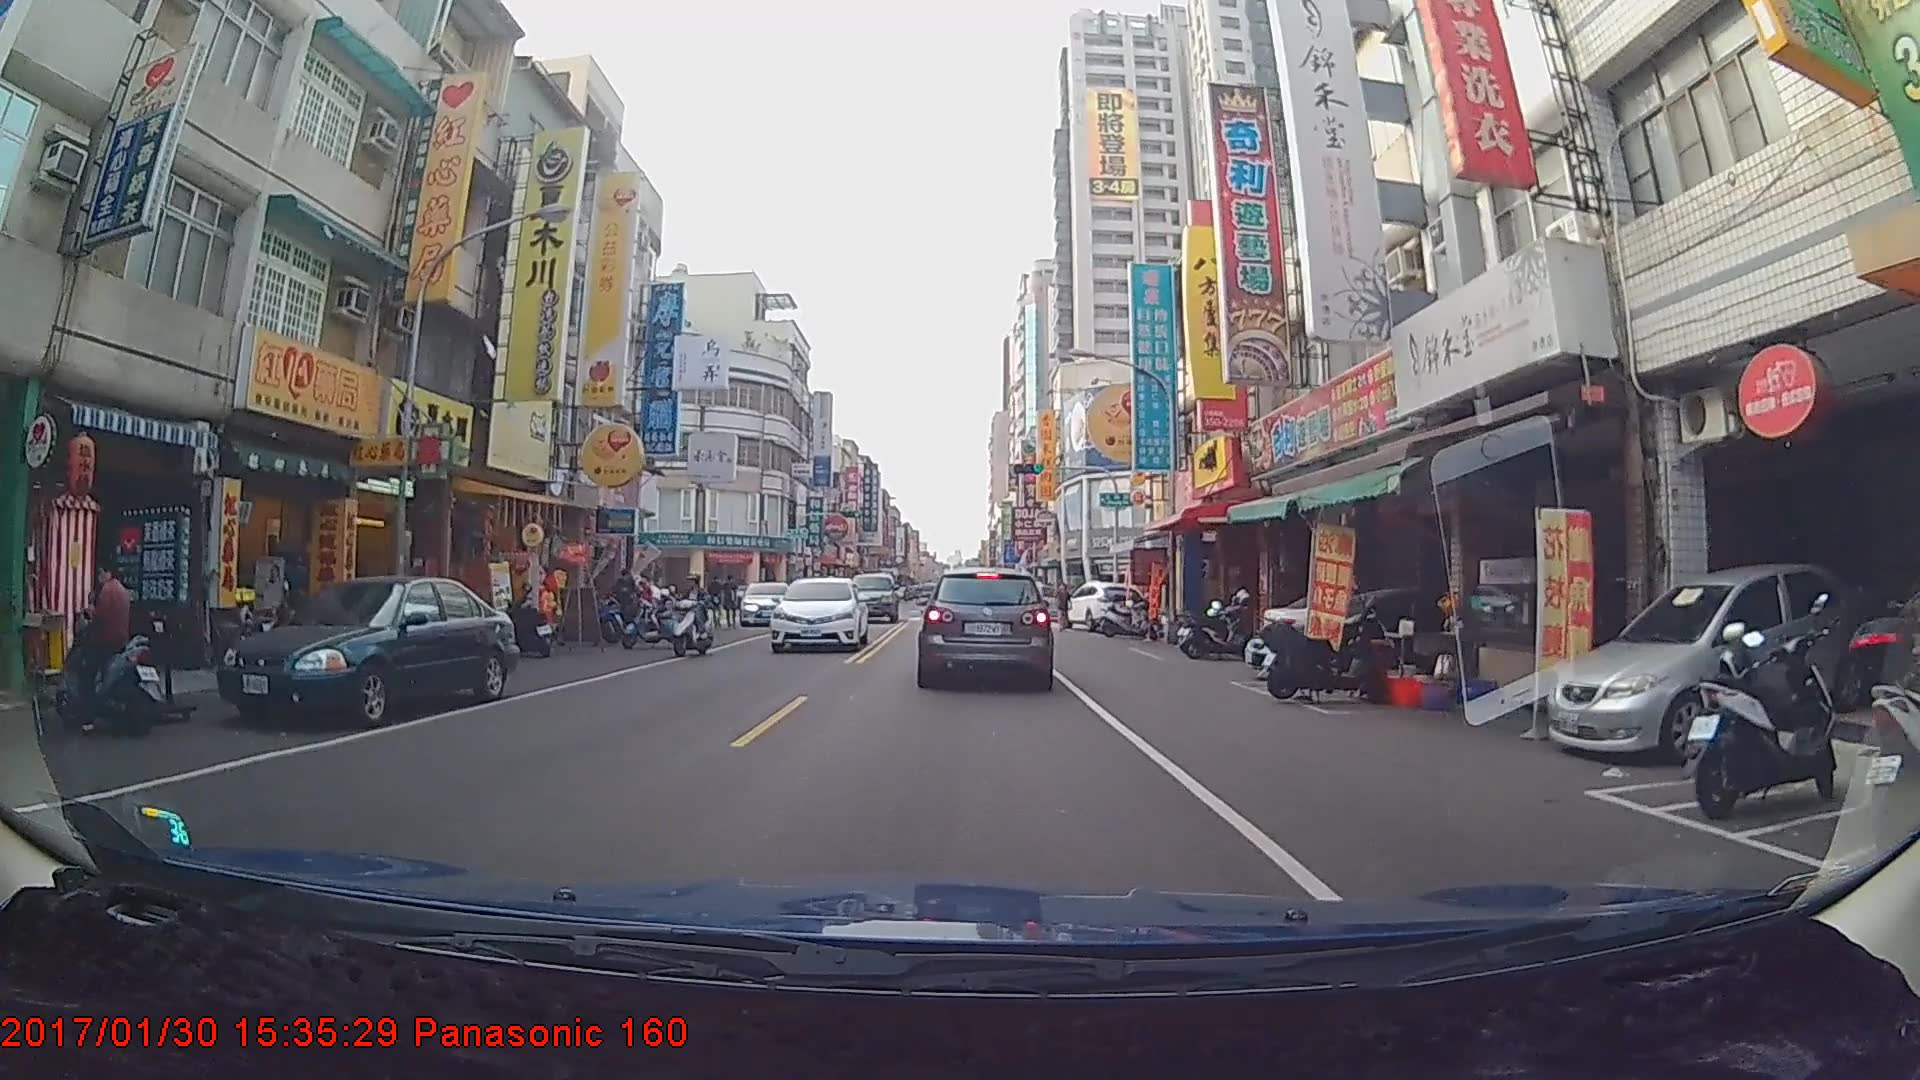pedestrian: (1053, 584, 1073, 635)
rider: (59, 555, 173, 742), (666, 575, 722, 666)
vehicle: (1539, 558, 1894, 761), (215, 579, 516, 733), (919, 565, 1052, 688), (769, 575, 867, 654), (1059, 583, 1151, 638), (844, 574, 900, 626), (739, 580, 788, 627)
